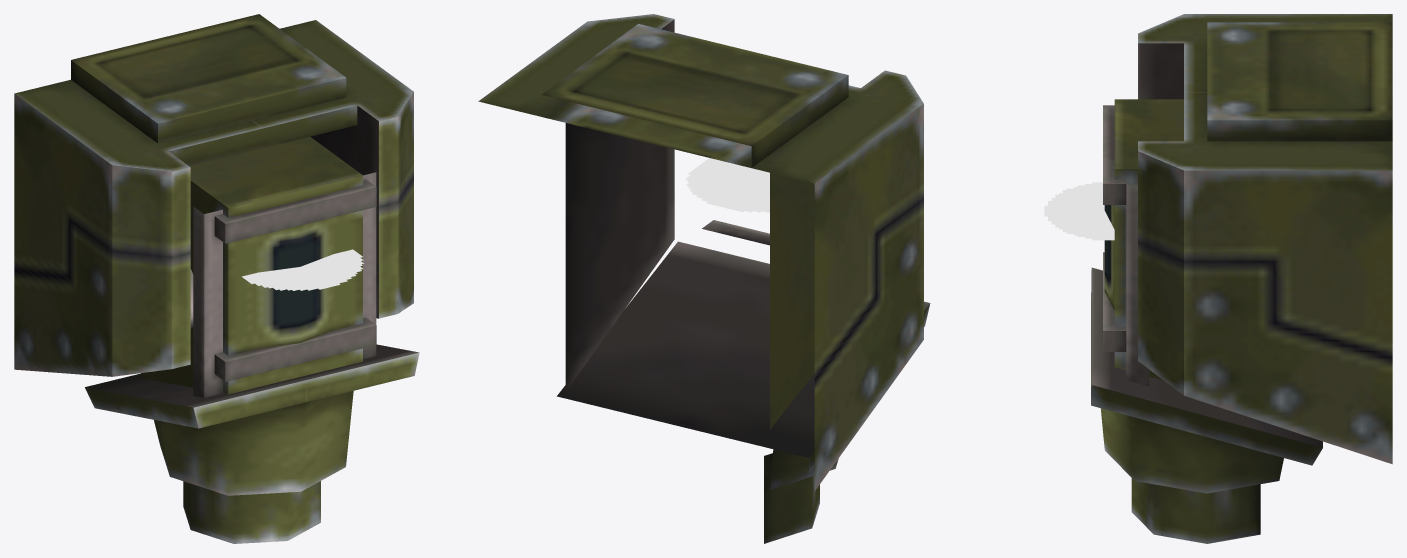
3 renders of one model, left to right at view 1: azimuth 30°, elevation 25°; view 2: azimuth 150°, elevation 25°; view 3: azimuth 270°, elevation 25°, orthographic. The views are drawn at different scales.
Parts seen in each view (by area): view 1: gun_block.model-MeshNodes["gun_block"], gun_block.model-MeshNodes["gun_body"], gun_block.model-MeshNodes["gun_barrel"], beastbell.part_model_lights-Mesh[1]; view 2: gun_block.model-MeshNodes["gun_block"], gun_block.model-MeshNodes["gun_body"], beastbell.part_model_lights-Mesh[1] (×2), gun_block.model-MeshNodes["gun_barrel"]; view 3: gun_block.model-MeshNodes["gun_block"], gun_block.model-MeshNodes["gun_body"], gun_block.model-MeshNodes["gun_barrel"], beastbell.part_model_lights-Mesh[1].
Boxes of the visible parts, x1=… form: gun_block.model-MeshNodes["gun_block"]: x1=14, y1=14, x2=413, y2=376; gun_block.model-MeshNodes["gun_body"]: x1=85, y1=136, x2=419, y2=495; gun_block.model-MeshNodes["gun_barrel"]: x1=183, y1=481, x2=320, y2=543; beastbell.part_model_lights-Mesh[1]: x1=242, y1=249, x2=363, y2=290; gun_block.model-MeshNodes["gun_block"]: x1=478, y1=14, x2=923, y2=490; gun_block.model-MeshNodes["gun_body"]: x1=557, y1=173, x2=930, y2=489; beastbell.part_model_lights-Mesh[1] (×2): x1=685, y1=158, x2=769, y2=212; gun_block.model-MeshNodes["gun_barrel"]: x1=764, y1=453, x2=819, y2=543; gun_block.model-MeshNodes["gun_block"]: x1=1138, y1=14, x2=1392, y2=464; gun_block.model-MeshNodes["gun_body"]: x1=1091, y1=99, x2=1322, y2=493; gun_block.model-MeshNodes["gun_barrel"]: x1=1131, y1=478, x2=1260, y2=543; beastbell.part_model_lights-Mesh[1]: x1=1044, y1=182, x2=1114, y2=240.
Size of the model in its own units: 1 by 1.31 by 1.08.
Materials: 2 (2 with a texture image).
